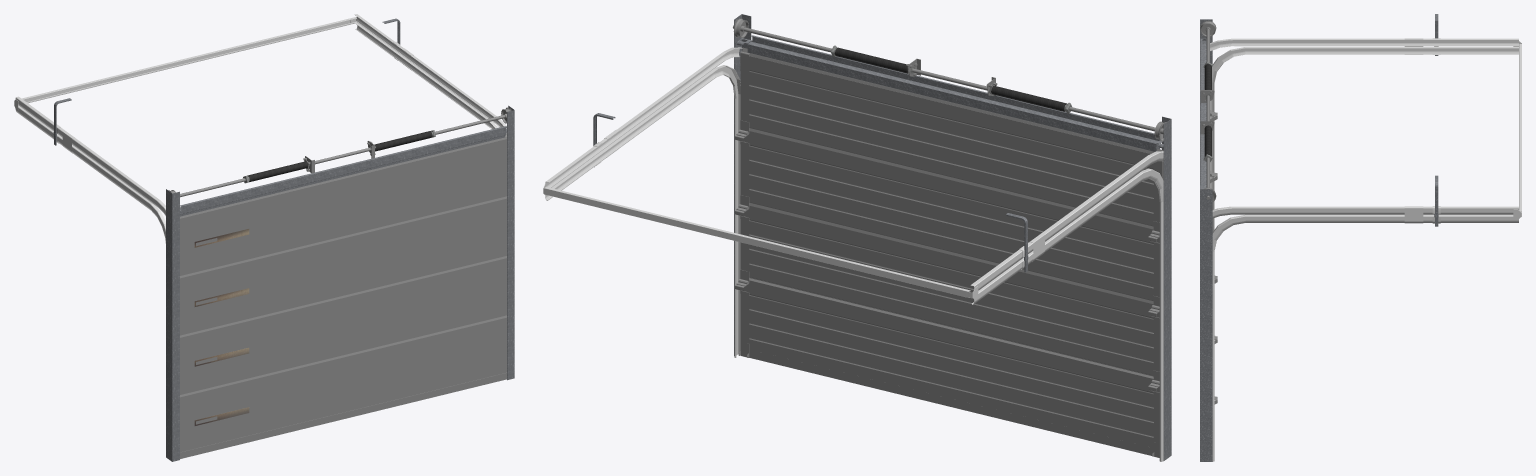
3 renders of one model, left to right at view 1: azimuth 30°, elevation 25°; view 2: azimuth 150°, elevation 25°; view 3: azimuth 270°, elevation 25°, orthographic. The views are drawn at different scales.
Parts seen in each view (by area): view 1: Shape014, Line002, Line070, Rectangle006, Rectangle010, Rectangle001, Line066, Line034, Line006, Line033, vulcano, Line005 (+1 smaller); view 2: Shape014, Line002, Line005, Rectangle001, Rectangle010, Rectangle006, Line033, Line070, Line006, Line034, Circle001, Cylinder011 (+2 smaller); view 3: Line066, Line005, Line033, Line034, Line006, Line002, Rectangle001, Circle001, Line019.
Boxes of the visible parts, box(x1,y1,x2,y2) form: Shape014: box(180, 132, 506, 452); Line002: box(180, 126, 506, 216); Line070: box(166, 189, 179, 461); Rectangle006: box(180, 139, 506, 225); Rectangle010: box(180, 372, 506, 458); Rectangle001: box(22, 17, 356, 103); Line066: box(507, 105, 514, 380); Line034: box(15, 96, 165, 215); Line006: box(354, 14, 506, 128); Line033: box(15, 105, 165, 243); vulcano: box(194, 229, 249, 425); Line005: box(355, 22, 497, 129); Shape014: box(742, 47, 1163, 447); Line002: box(747, 35, 1159, 151); Line005: box(545, 65, 740, 357); Rectangle001: box(544, 187, 970, 297); Rectangle010: box(749, 349, 1153, 455); Rectangle006: box(749, 56, 1150, 159); Line033: box(972, 168, 1163, 461); Line070: box(1162, 116, 1171, 460); Line006: box(545, 47, 742, 187); Line034: box(970, 151, 1163, 290); Circle001: box(733, 25, 1155, 131); Cylinder011: box(991, 86, 1067, 111); Line066: box(1200, 186, 1212, 461); Line005: box(1212, 214, 1518, 461); Line033: box(1210, 47, 1518, 231); Line034: box(1210, 38, 1518, 50); Line006: box(1212, 206, 1518, 218); Line002: box(1200, 38, 1206, 189); Rectangle001: box(1519, 44, 1521, 212); Circle001: box(1206, 29, 1209, 199); Line019: box(1404, 206, 1423, 223).
Size of the model in its own units: 3019 by 2289 by 2393.
Materials: 9 (4 with a texture image).
